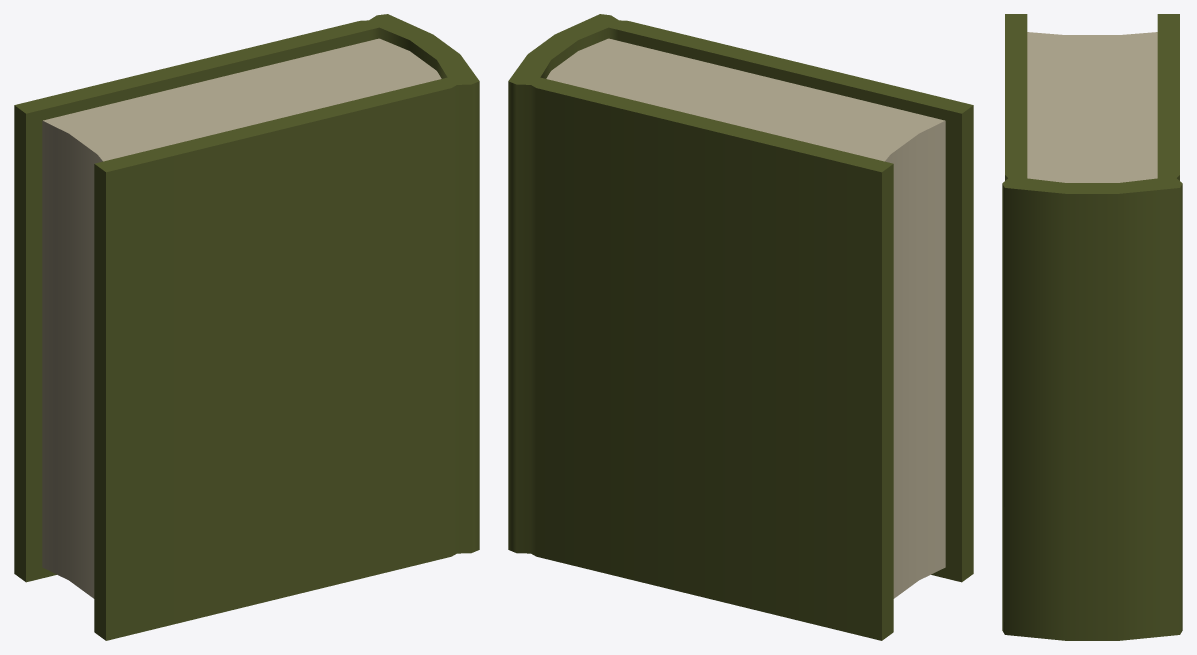
Rendered from Book_Big_Green.glb.
3 views of the same model, side by side, from view 1: azimuth 30°, elevation 25°; view 2: azimuth 150°, elevation 25°; view 3: azimuth 270°, elevation 25° (orthographic). The views are drawn at different scales.
Parts seen in each view (by area): view 1: Book_Big_Green; view 2: Book_Big_Green; view 3: Book_Big_Green.
Part boxes in pixels (<box>): Book_Big_Green: <box>14,14,479,640</box>; Book_Big_Green: <box>508,14,973,640</box>; Book_Big_Green: <box>1002,14,1182,640</box>.
Size of the model in its own units: 0.3881 by 0.4495 by 0.1644.
2 materials, 2 textured.
